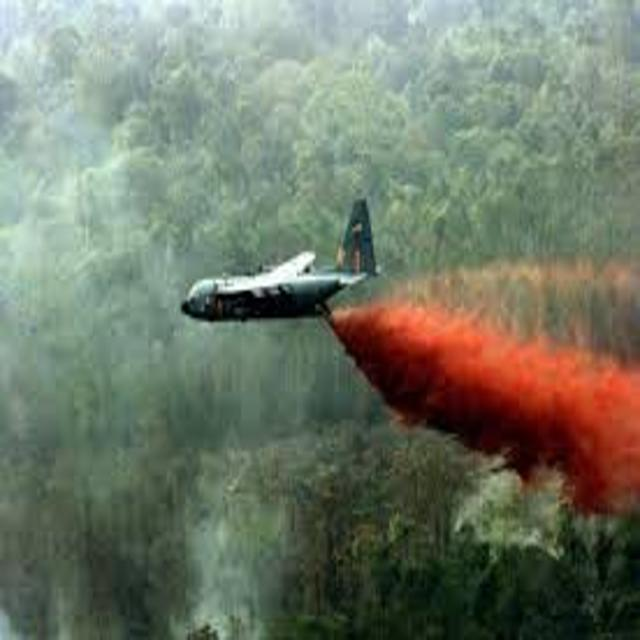Smoke: (0, 2, 133, 352), (180, 504, 290, 640)
